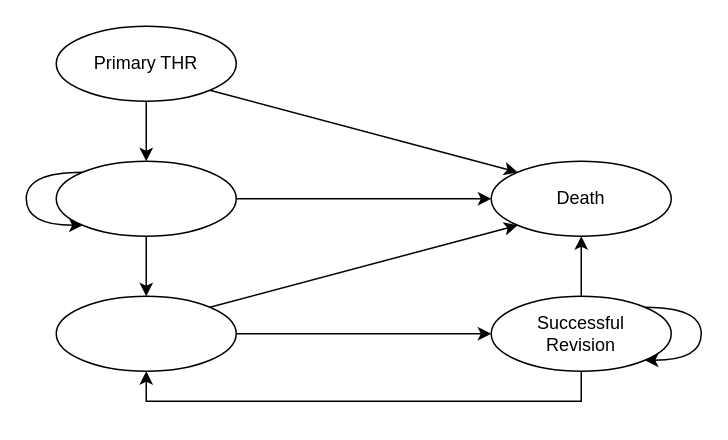
This 728x440 diagram has some shape labels left out. Each missing label, with the centre of its shape:
Revision THR: the point at 145,333
Successful Primary: the point at 145,198
